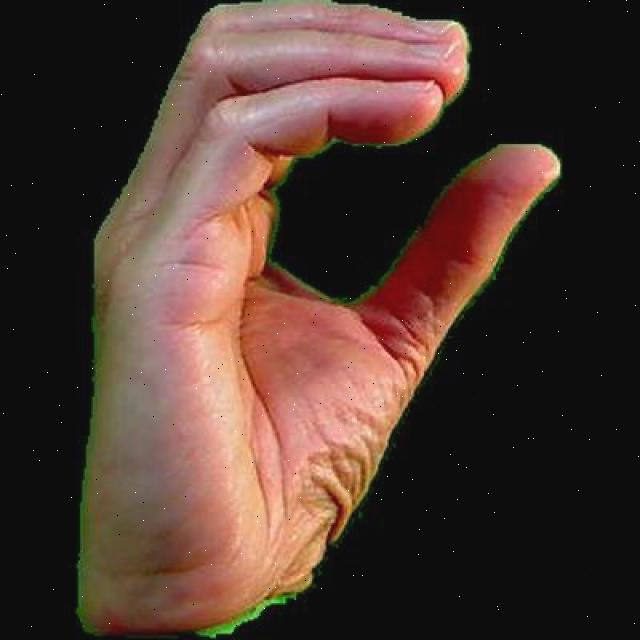c: (62, 0, 562, 637)
